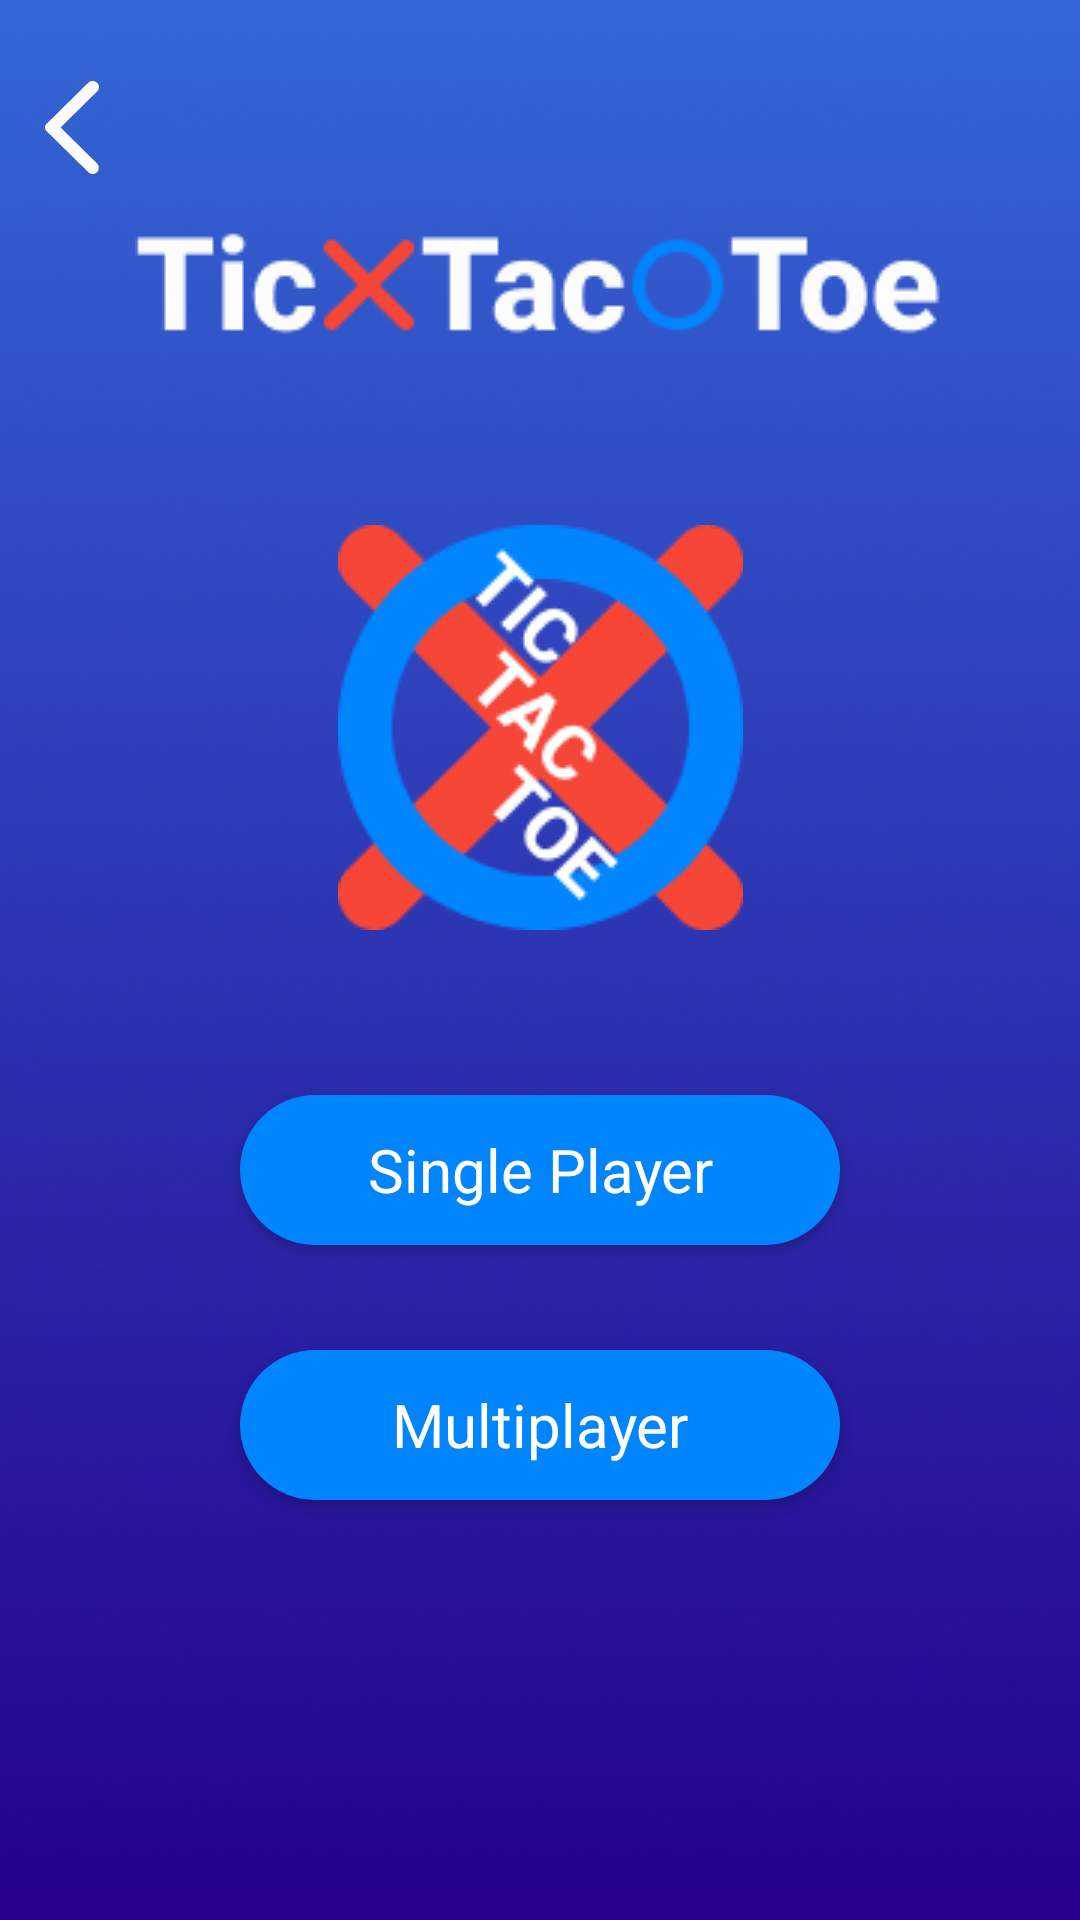

Icon click points for this 1080px x 1920px phone screenshot, format [x,y]:
back: [72,127]
